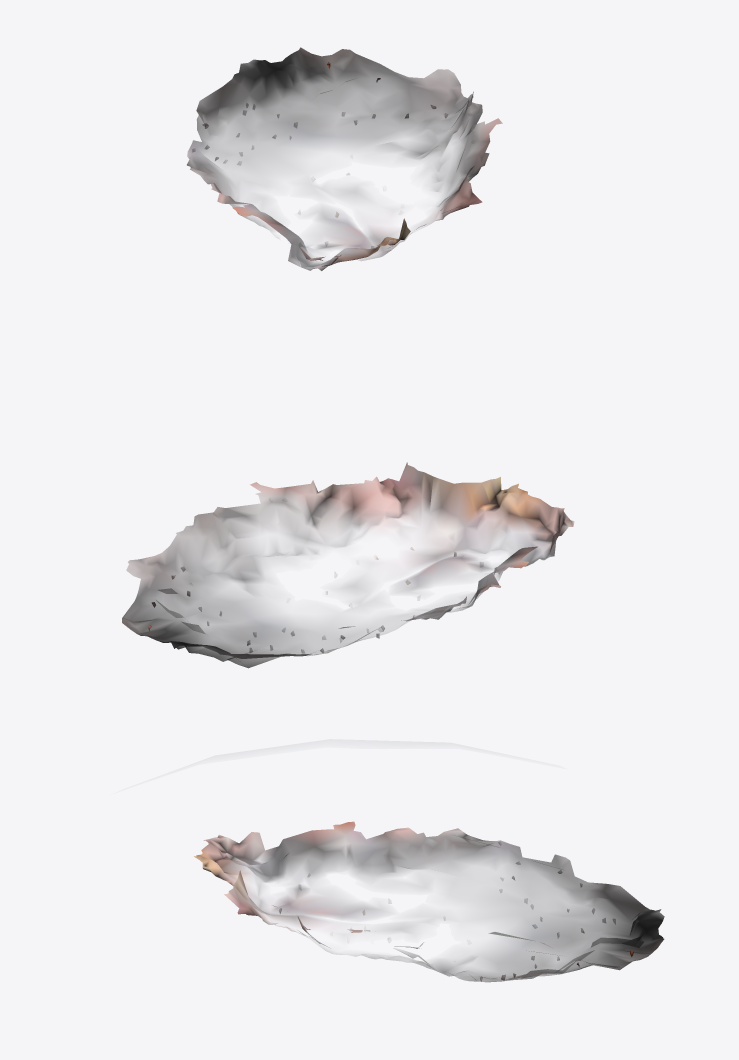
3 renders of one model, top to bottom at view 1: azimuth 30°, elevation 25°; view 2: azimuth 150°, elevation 25°; view 3: azimuth 270°, elevation 25°, orthographic.
Visible parts, largest first — view 1: Landscape.002; view 2: Landscape.002; view 3: Landscape.002.
Boxes of the visible parts, box(x1,y1,x2,y2) form: Landscape.002: box(187, 47, 502, 270); Landscape.002: box(122, 462, 574, 668); Landscape.002: box(194, 821, 664, 982).
Size of the model in its own units: 105 by 18.89 by 106.
8 materials, 2 textured.
